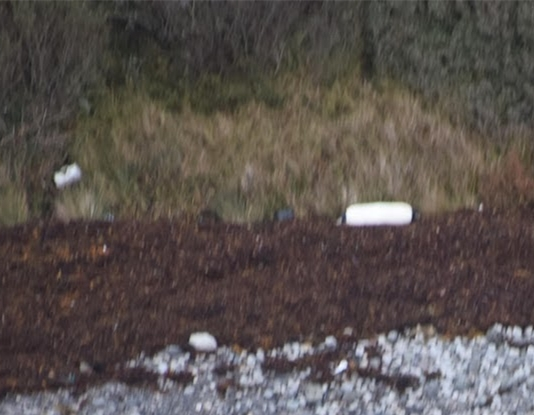scattered_barrel: (27, 142, 420, 357)
